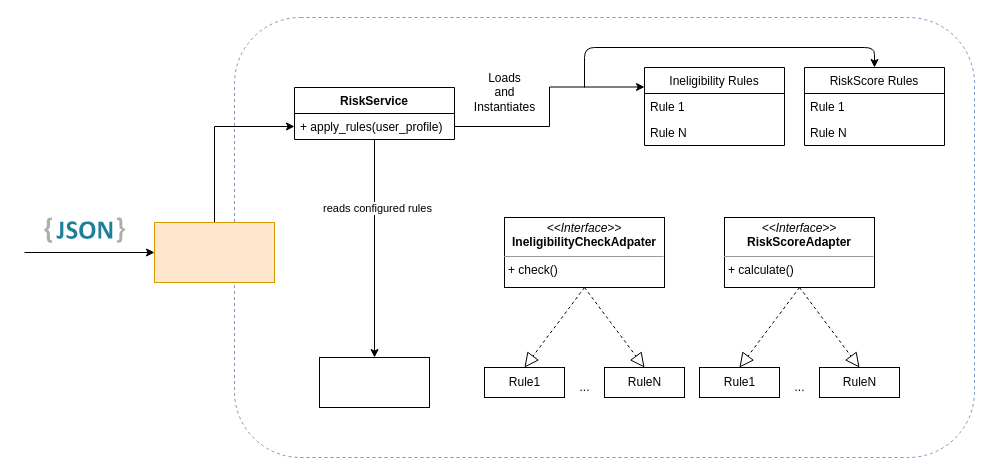
The diagram is 992 pixels wide and 475 high, and some of its shapes have lost their labels. Here are the shapes that lost their labels. From the top down, the centre of each, then its label:
At point (214, 252): "POST /v1/api/risk".
At point (374, 382): "Settings".
